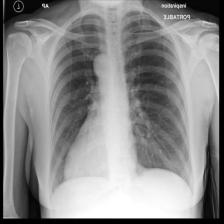normal: (47, 7, 194, 201)
